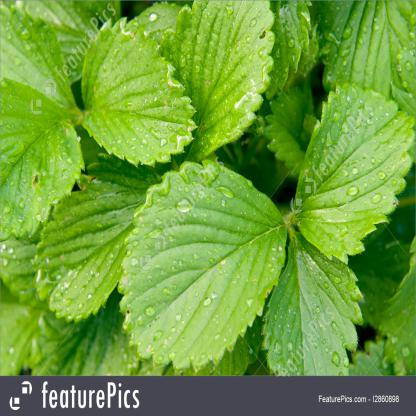strawberry leaf: (112, 155, 295, 370), (296, 83, 415, 256), (70, 26, 204, 164), (257, 230, 363, 380)
